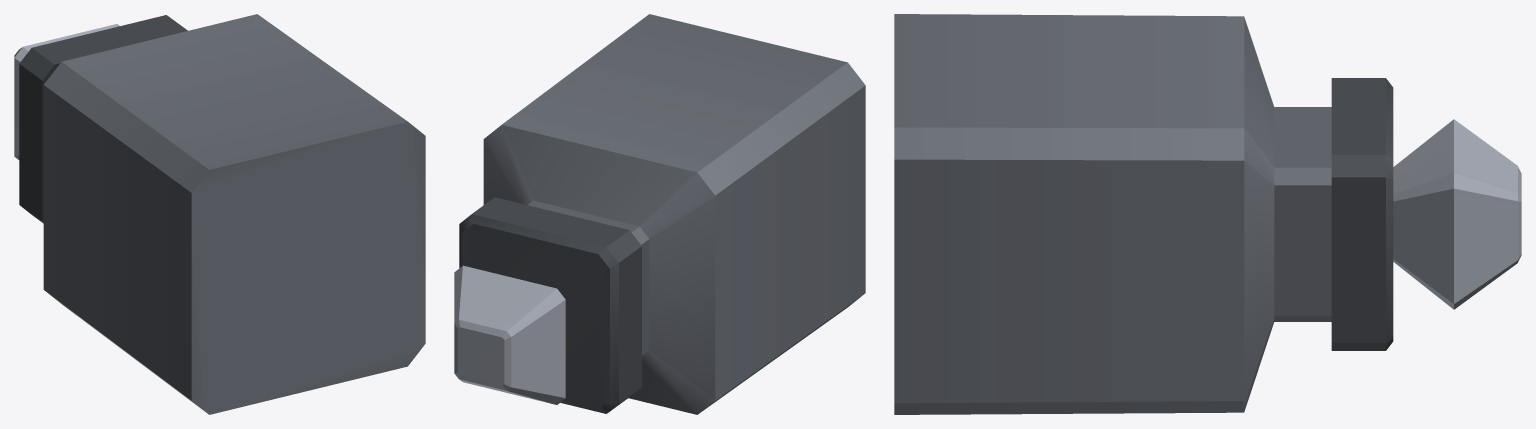
Rendered from Edge Pillar Corner 02.FBX.
3 views of the same model, side by side, from view 1: azimuth 30°, elevation 25°; view 2: azimuth 150°, elevation 25°; view 3: azimuth 270°, elevation 25° (orthographic). The views are drawn at different scales.
Visible parts, largest first — view 1: Edge Pillar Corner 02; view 2: Edge Pillar Corner 02; view 3: Edge Pillar Corner 02.
Boxes of the visible parts, left/top/right/bottom form: Edge Pillar Corner 02: left=14, top=14, right=425, bottom=414; Edge Pillar Corner 02: left=454, top=14, right=865, bottom=414; Edge Pillar Corner 02: left=894, top=14, right=1521, bottom=414.
Size of the model in its own units: 65.72 by 65.74 by 130.
